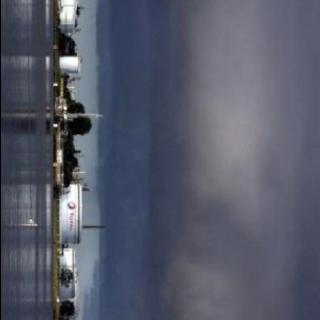Nimbostratus: (90, 0, 320, 320)
